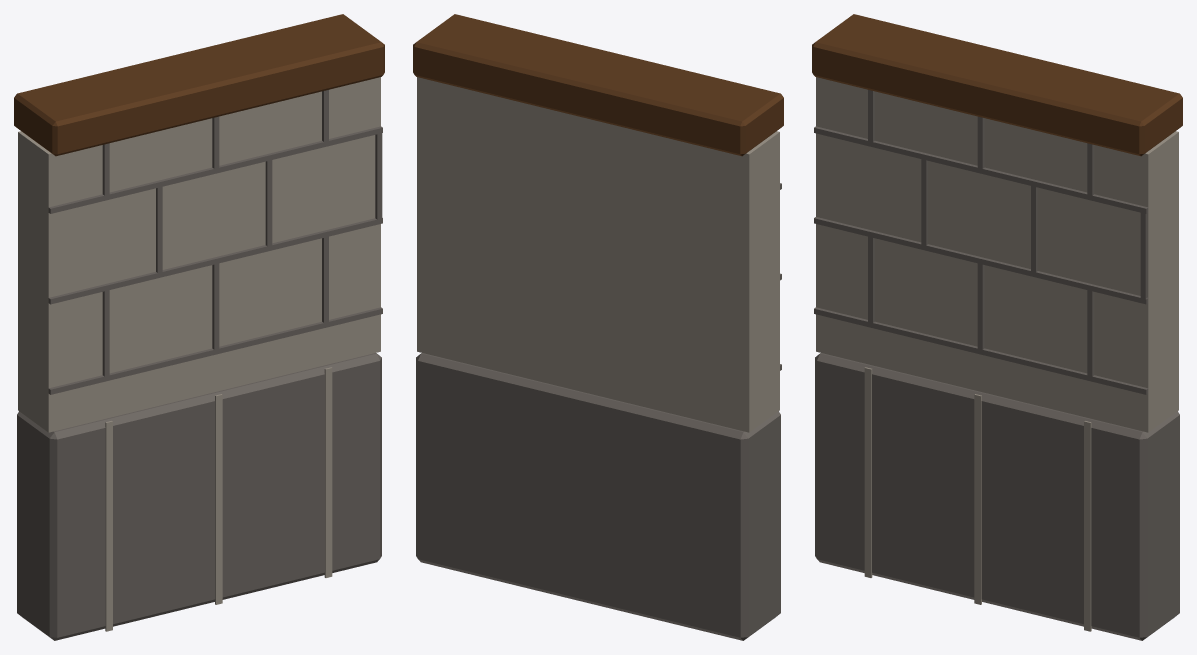
The model's file is PR_Building_Duvar_Tas.fbx.
3 views of the same model, side by side, from view 1: azimuth 30°, elevation 25°; view 2: azimuth 150°, elevation 25°; view 3: azimuth 330°, elevation 25° (orthographic).
Parts seen in each view (by area): view 1: PR_Building_Duvar_Tas; view 2: PR_Building_Duvar_Tas; view 3: PR_Building_Duvar_Tas.
Boxes of the visible parts, x1,y1,x2,y2 form: PR_Building_Duvar_Tas: [14, 14, 384, 640]; PR_Building_Duvar_Tas: [413, 14, 783, 640]; PR_Building_Duvar_Tas: [812, 14, 1182, 640].
Bounding box in the file's own units: 1 × 1.5 × 0.22.
